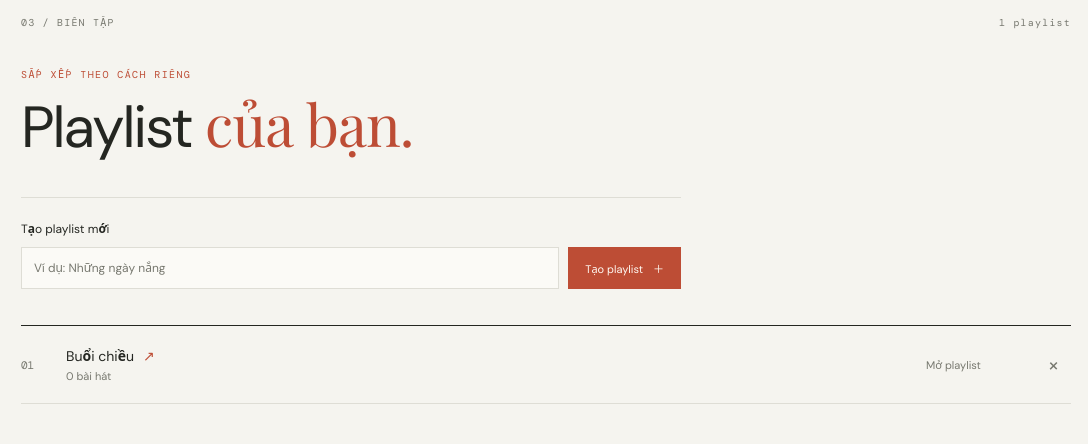
Test case: PlaylistsPage › không tạo playlist trùng tên khi khác chữ hoa thường
In the field labelled "Tạo playlist mới": (290, 268) [21,247,559,289], type "buổi CHIỀU"
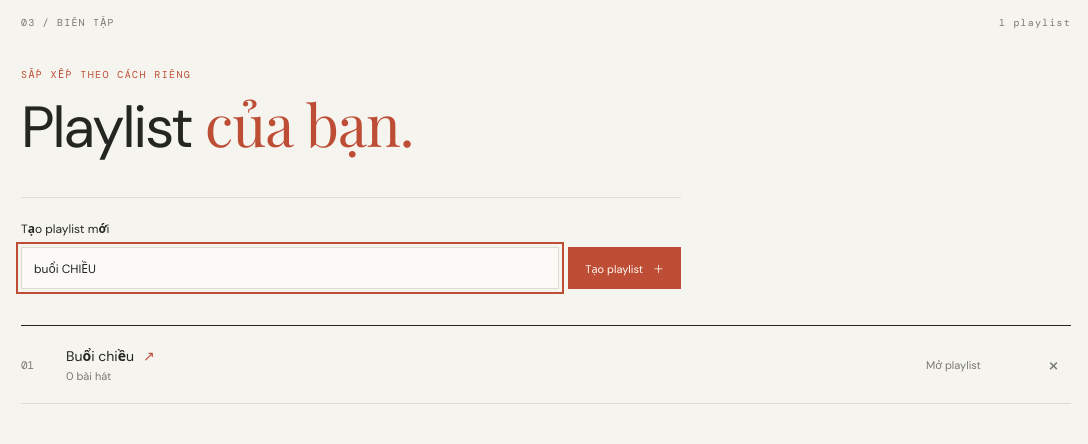
Click the button "Tạo playlist ＋": (625, 268) [568,247,681,289]
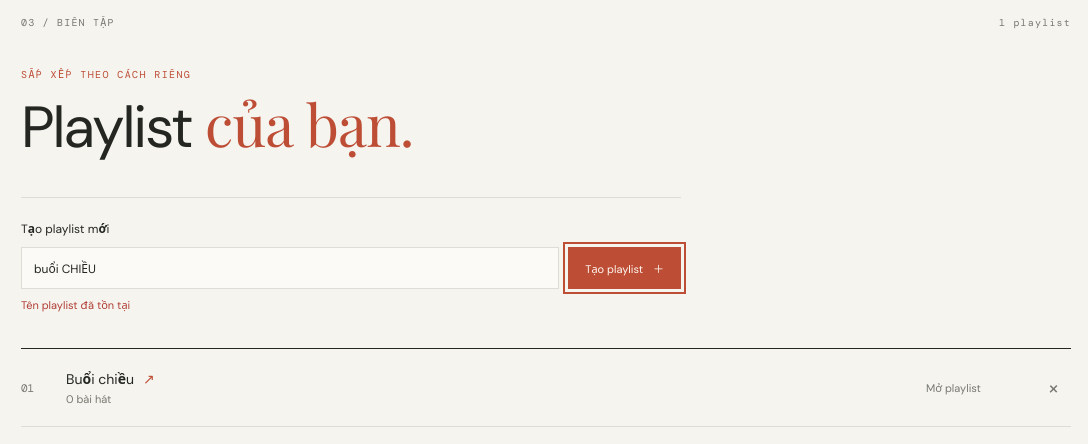
Expected: the number of links "Buổi chiều ↗" is 1, [66,369,155,388]
Now the message reads "Tên playlist đã tồn tại", box [21,298,130,312]
